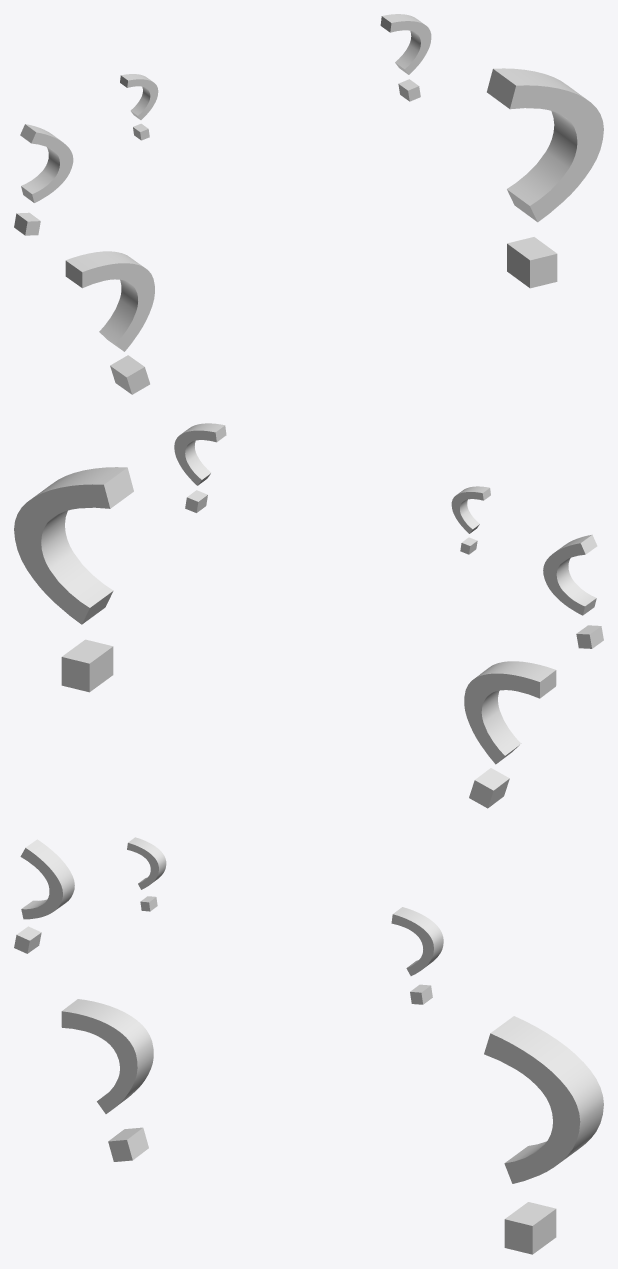
File: question.obj
3 views of the same model, one above another, from view 1: azimuth 30°, elevation 25°; view 2: azimuth 150°, elevation 25°; view 3: azimuth 330°, elevation 25° (orthographic). The views are drawn at different scales.
Visible parts, largest first — view 1: Signos; view 2: Signos; view 3: Signos.
Part boxes in pixels (x1,y1,x2,y2): Signos: [14, 14, 603, 394]; Signos: [14, 423, 603, 808]; Signos: [14, 837, 603, 1254].
Size of the model in its own units: 42.51 by 22.01 by 3.2.
